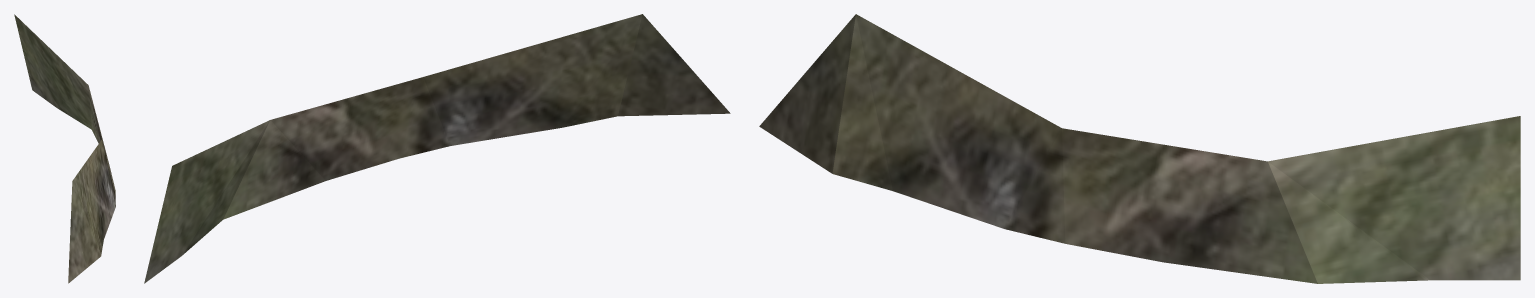
The picture shows the model from 3 angles, left to right: view 1: azimuth 30°, elevation 25°; view 2: azimuth 150°, elevation 25°; view 3: azimuth 270°, elevation 25°; orthographic projection. The views are drawn at different scales.
Bounding box in the file's own units: 5.57 × 2.45 × 11.39.
1 material, 1 textured.
